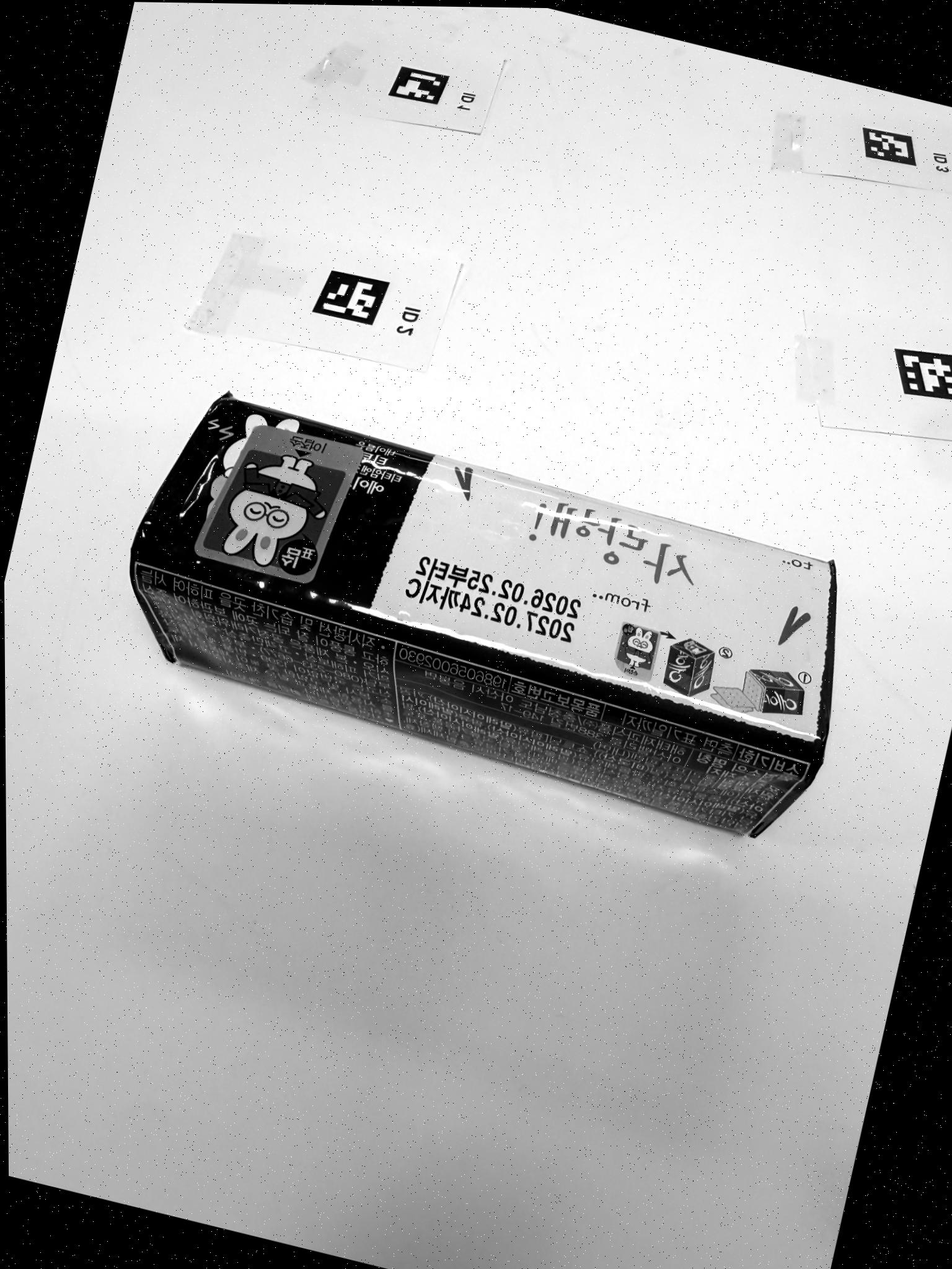cracker_ace: (131, 394, 837, 838)
